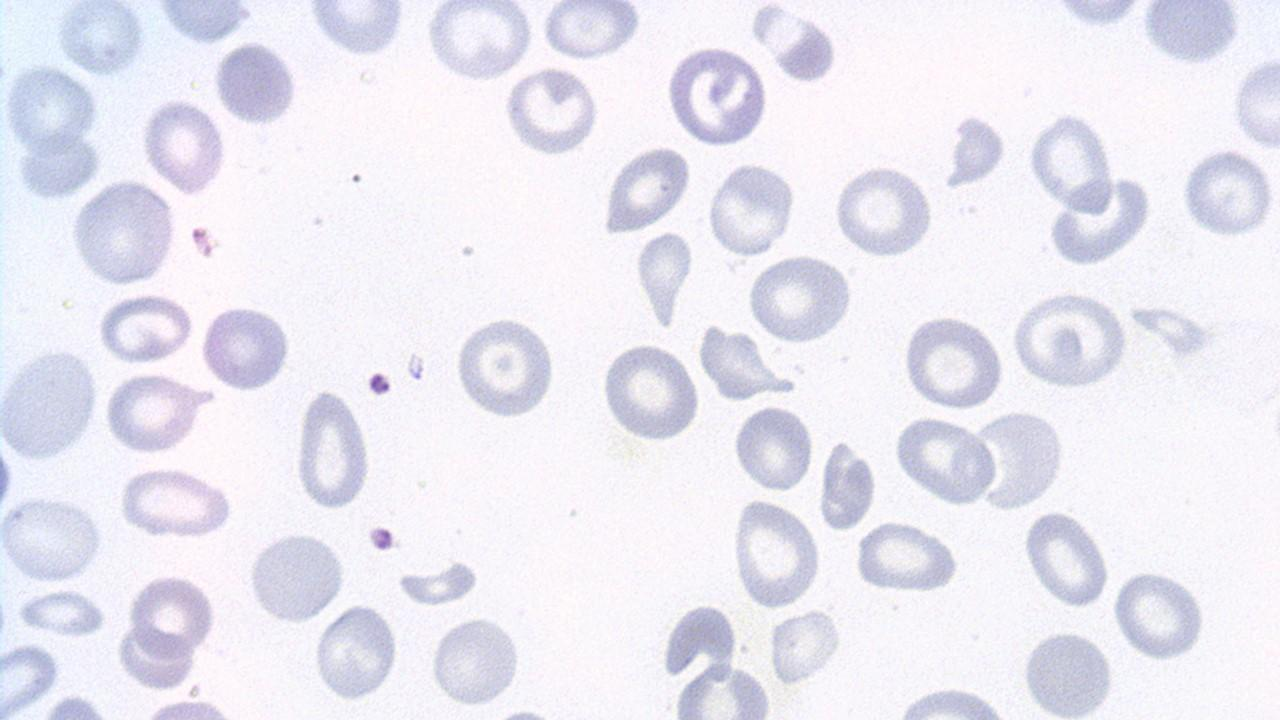Platelets: (1176, 145, 1278, 239), (816, 438, 880, 531), (942, 111, 1010, 190), (768, 16, 844, 86), (16, 589, 113, 636), (395, 557, 482, 608), (0, 438, 17, 518), (366, 524, 401, 556), (364, 368, 394, 398), (404, 350, 428, 384)
RBC: (1009, 288, 1131, 391), (69, 177, 177, 288), (0, 343, 99, 464), (450, 313, 560, 421), (664, 39, 770, 149), (596, 338, 704, 444), (898, 312, 1008, 412), (968, 406, 1071, 512), (728, 496, 824, 609), (745, 253, 857, 346), (830, 162, 936, 260), (246, 526, 349, 626), (1109, 564, 1213, 662), (292, 387, 374, 511), (1026, 108, 1118, 216), (1176, 143, 1278, 240), (892, 414, 997, 506), (0, 494, 107, 584), (500, 64, 602, 158), (1, 63, 102, 157), (422, 2, 534, 84), (99, 370, 207, 455), (1020, 508, 1110, 610), (312, 600, 400, 704), (428, 613, 524, 708), (117, 464, 237, 540), (705, 159, 797, 258), (198, 300, 292, 394), (599, 141, 694, 234), (138, 97, 229, 194), (851, 520, 960, 596), (127, 572, 220, 658), (732, 400, 816, 494), (94, 291, 196, 365), (53, 3, 149, 77), (666, 658, 778, 717), (632, 230, 696, 330), (766, 606, 846, 686), (540, 0, 643, 62), (14, 129, 104, 199), (113, 622, 197, 692), (1229, 51, 1279, 154), (16, 586, 109, 640), (888, 683, 1020, 719), (1, 640, 62, 715)
WBC: (478, 0, 1272, 720), (0, 8, 594, 720), (342, 0, 918, 318), (923, 0, 1280, 509), (69, 177, 180, 288), (1, 342, 101, 464), (965, 406, 1072, 515), (1042, 173, 1156, 270), (244, 526, 346, 626), (501, 66, 604, 160), (427, 612, 526, 709), (1018, 624, 1118, 718), (196, 301, 296, 395), (598, 144, 696, 233), (658, 648, 778, 718), (210, 37, 302, 128), (1135, 1, 1247, 70), (53, 1, 150, 78), (302, 1, 414, 60), (816, 435, 880, 533), (148, 0, 260, 44), (1028, 0, 1160, 31)
